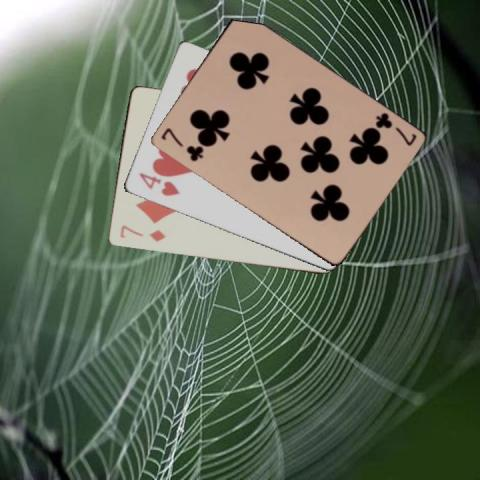4h: (136, 169, 181, 198)
7c: (157, 125, 204, 163), (372, 109, 417, 148)
7d: (116, 222, 166, 243)
